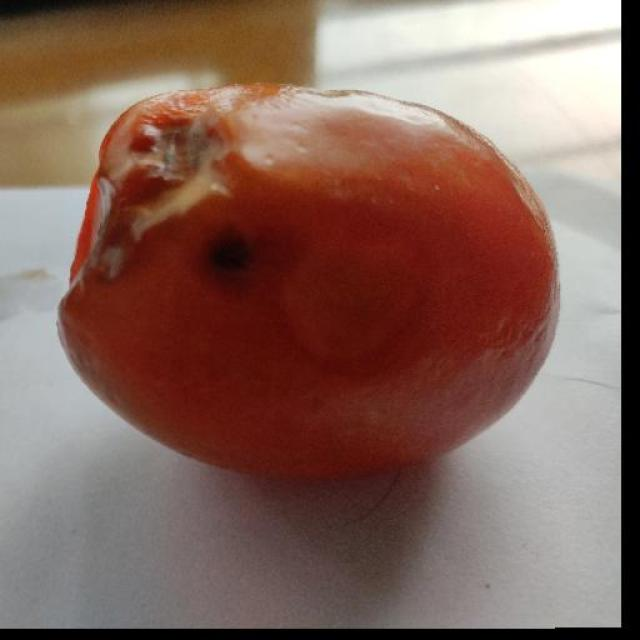Stale_tomato: (85, 85, 540, 460)
